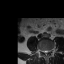CCS_normal: (45, 48, 46, 57)
LFS_normal: (48, 48, 50, 54)
LLS_normal: (46, 48, 48, 55)
RFS_normal: (41, 48, 43, 54)
RLS_normal: (43, 48, 45, 54)
